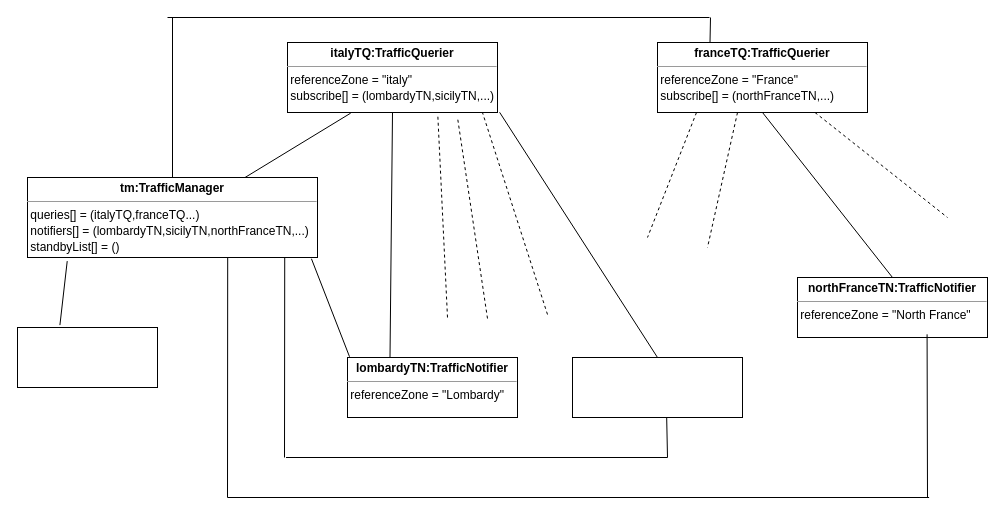
Some shapes in this 1005 by 516 pixel diagram are drawn without their labels. The box of each missing label's shape, as (x1, y1, x2, y2) in pixels:
as:AddressSolver: (16, 326, 158, 388)
sicilyTN:TrafficNotifier referenceZone = "Sicily": (572, 356, 742, 418)
